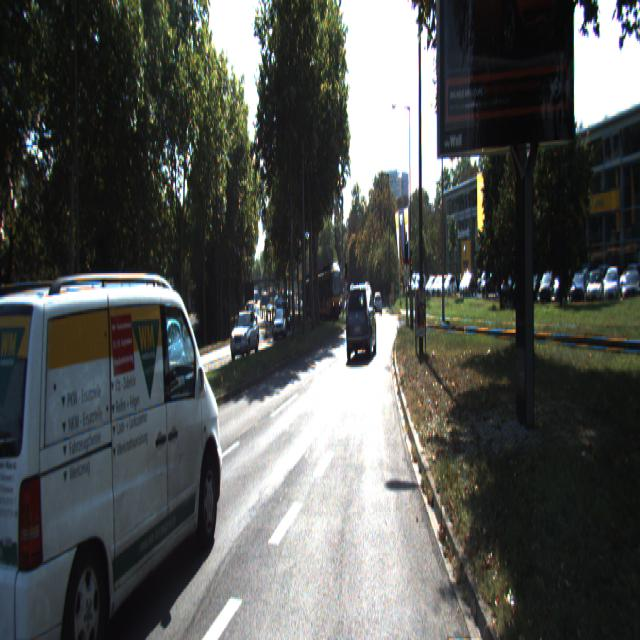Car: (0, 247, 227, 638), (137, 316, 187, 398), (345, 280, 377, 362), (308, 267, 342, 322), (230, 309, 260, 358)
